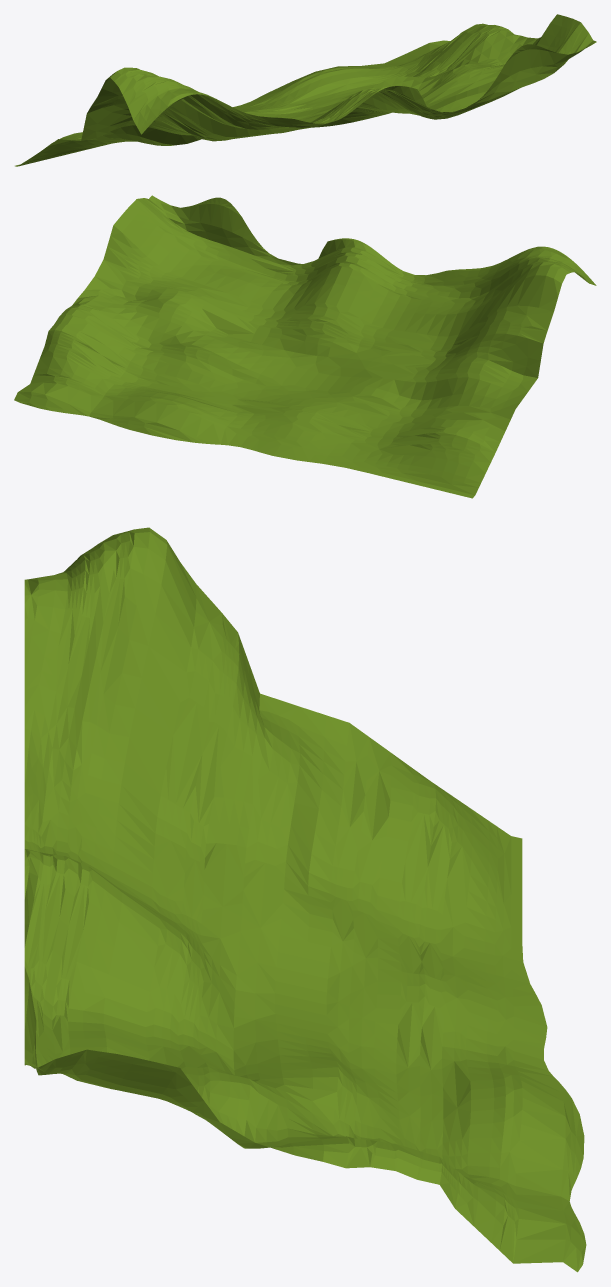
Rendered from hill only.fbx.
3 views of the same model, one above another, from view 1: azimuth 30°, elevation 25°; view 2: azimuth 150°, elevation 25°; view 3: azimuth 270°, elevation 25° (orthographic). The views are drawn at different scales.
Parts seen in each view (by area): view 1: 物件_1; view 2: 物件_1; view 3: 物件_1.
Part boxes in pixels (x1,y1,x2,y2): 物件_1: (15, 14, 596, 166); 物件_1: (14, 195, 596, 498); 物件_1: (24, 527, 586, 1272).
Size of the model in its own units: 288 by 158 by 99.37.
